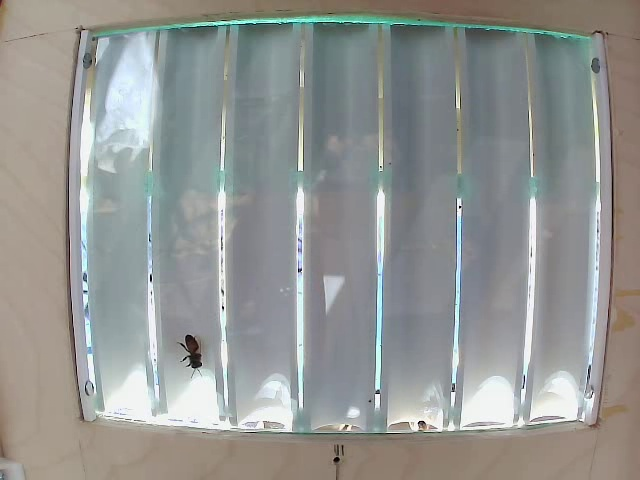bee: (172, 322, 218, 385)
